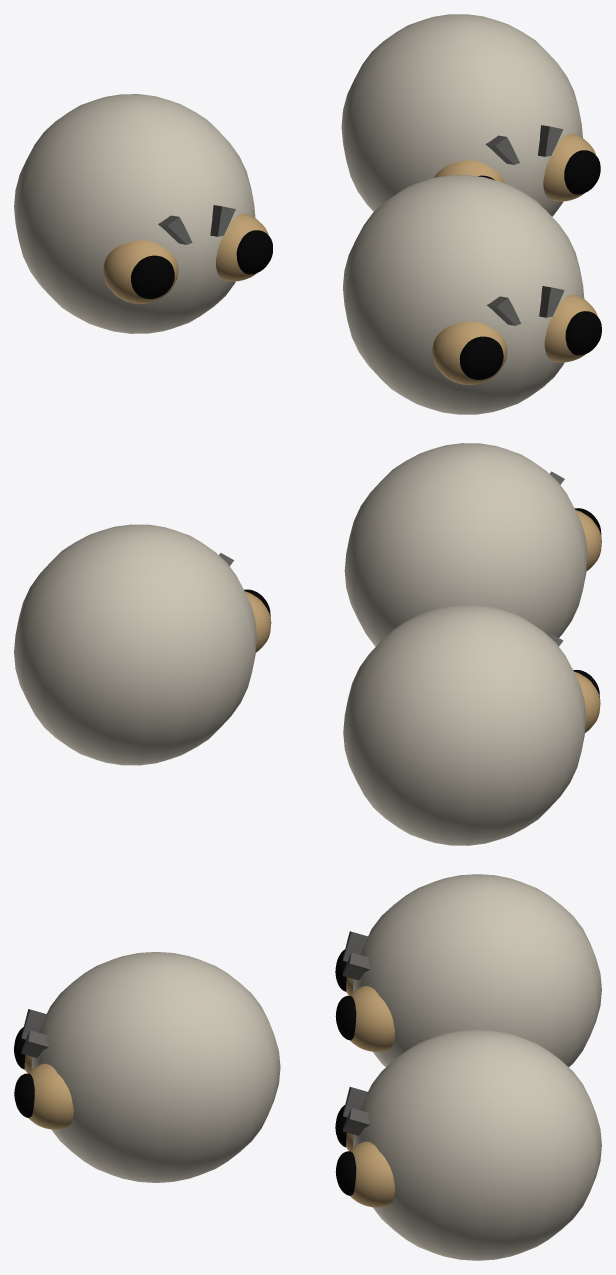
File: bolas arroz.fbx
The picture shows the model from 3 angles, top to bottom: view 1: azimuth 30°, elevation 25°; view 2: azimuth 150°, elevation 25°; view 3: azimuth 270°, elevation 25°; orthographic projection. The views are drawn at different scales.
Parts seen in each view (by area): view 1: bola_blanca, bola_blanca2, bola_blanca1; view 2: bola_blanca1, bola_blanca, bola_blanca2; view 3: bola_blanca1, bola_blanca2, bola_blanca.
Part boxes in pixels (bbox=[...]): bola_blanca: bbox=[14, 94, 272, 333]; bola_blanca2: bbox=[343, 175, 601, 414]; bola_blanca1: bbox=[341, 14, 600, 216]; bola_blanca1: bbox=[14, 524, 271, 765]; bola_blanca: bbox=[343, 605, 600, 845]; bola_blanca2: bbox=[344, 443, 601, 646]; bola_blanca1: bbox=[335, 1029, 601, 1260]; bola_blanca2: bbox=[14, 952, 280, 1182]; bola_blanca: bbox=[335, 874, 601, 1066].
Bounding box in the file's own units: 4.81 × 1.86 × 4.72.
